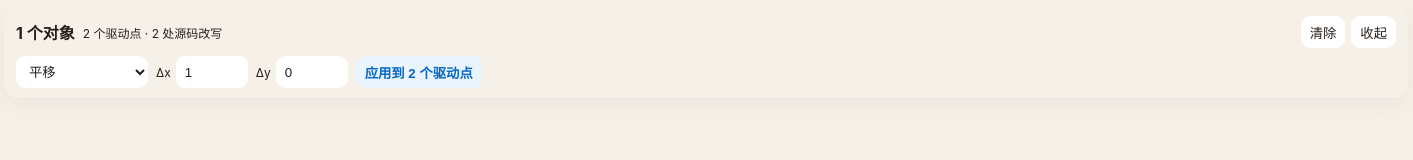
Test: TikzSelectionTransform › applies translation to the current multi-object selection
Replace the text in the field named "水平位移" with "2": (212, 72) left=176, top=56, right=248, bottom=88
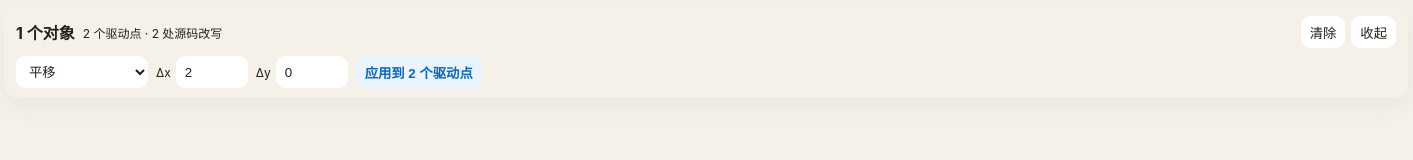
Replace the text in the field named "垂直位移" with "-3": (312, 72) left=276, top=56, right=348, bottom=88
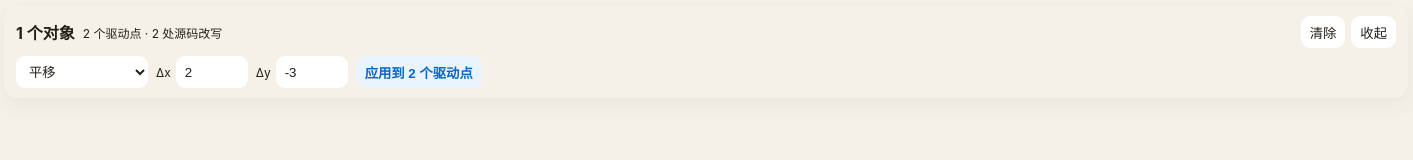
Click the button "应用到 2 个驱动点": (419, 72) left=356, top=56, right=482, bottom=88
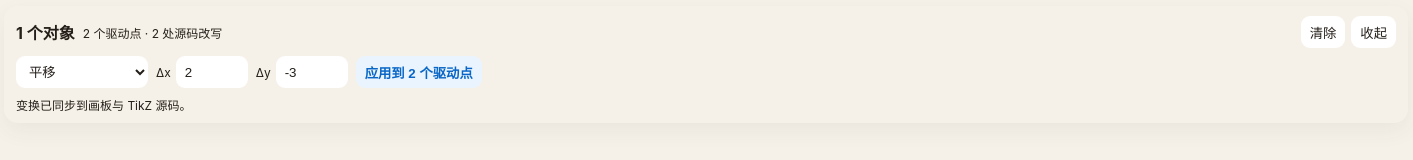
Expected: the text "变换已同步到画板与 TikZ 源码。" is shown, left=16, top=98, right=192, bottom=113
